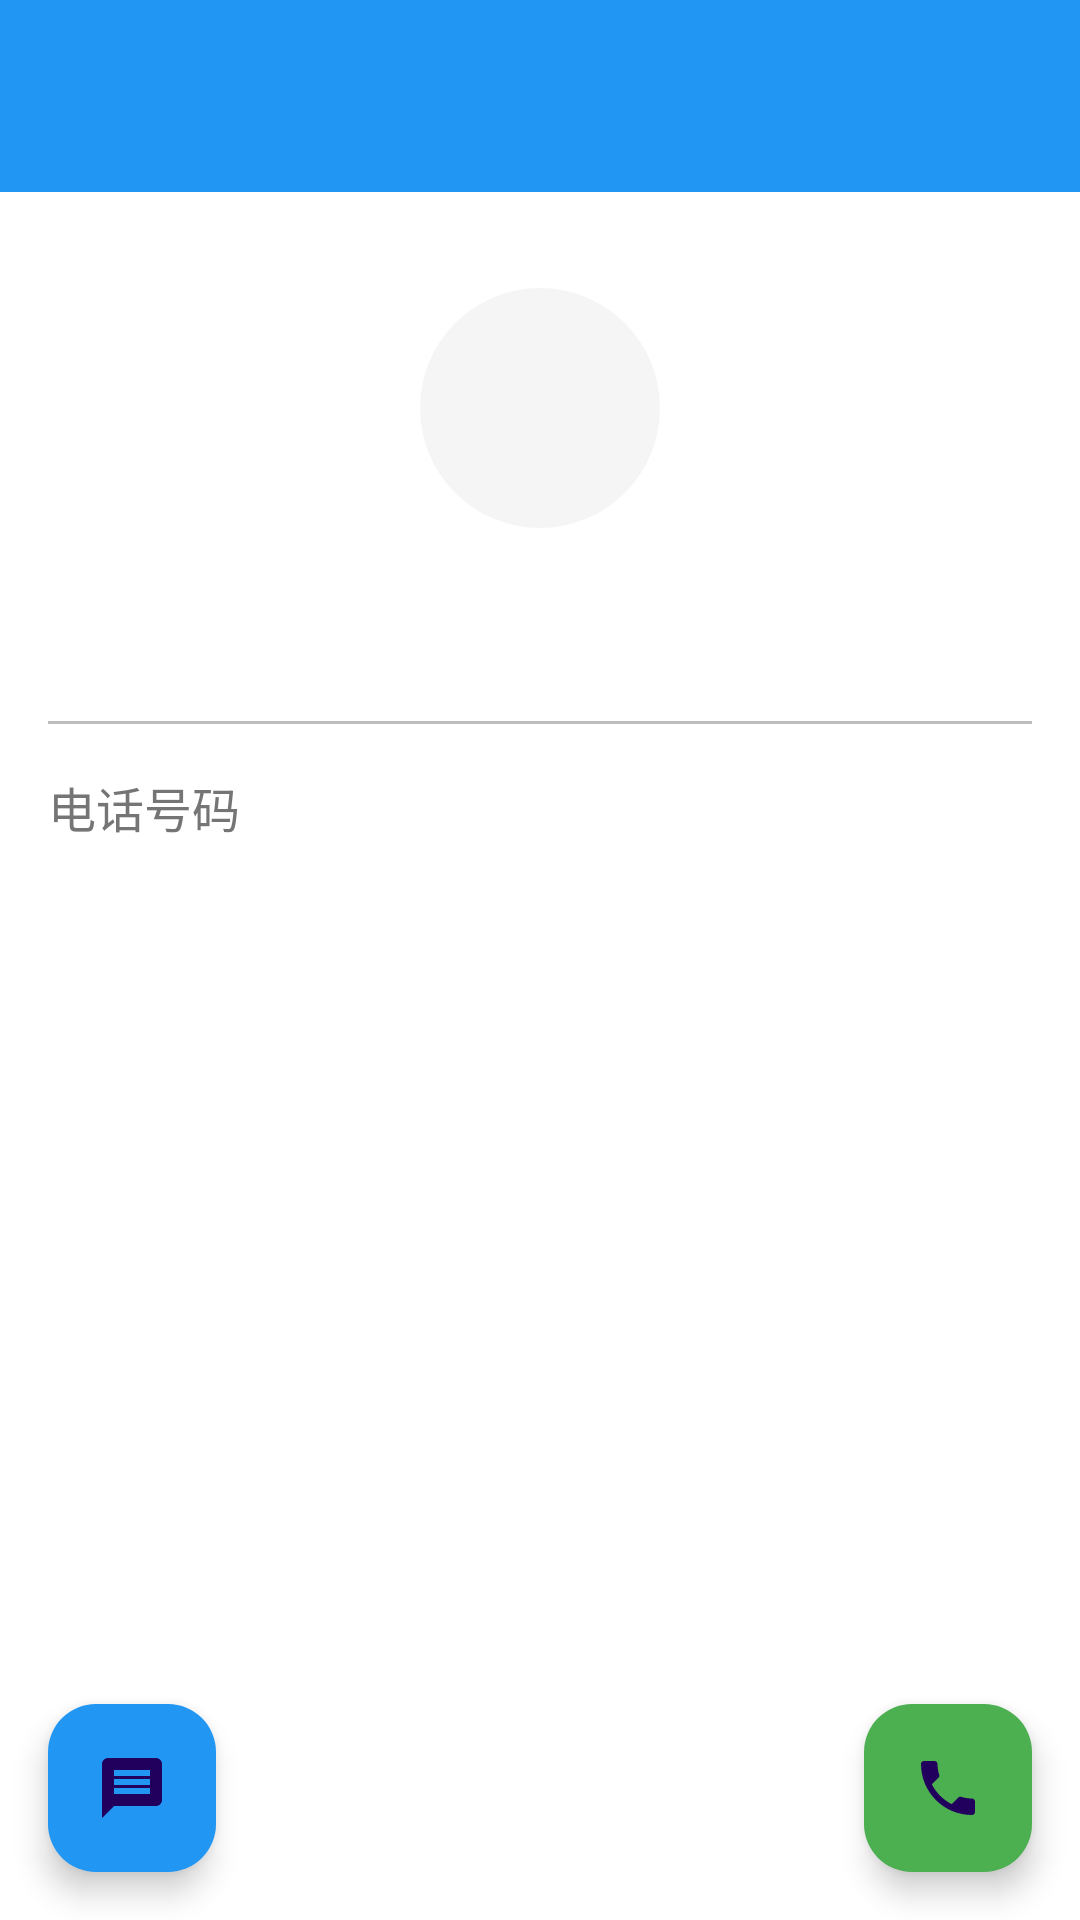

Screen size 1080 × 1920. Icon name, then its center in pixels as (x=x, y=y):
发送短信: (x=132, y=1788)
拨打: (x=948, y=1788)
